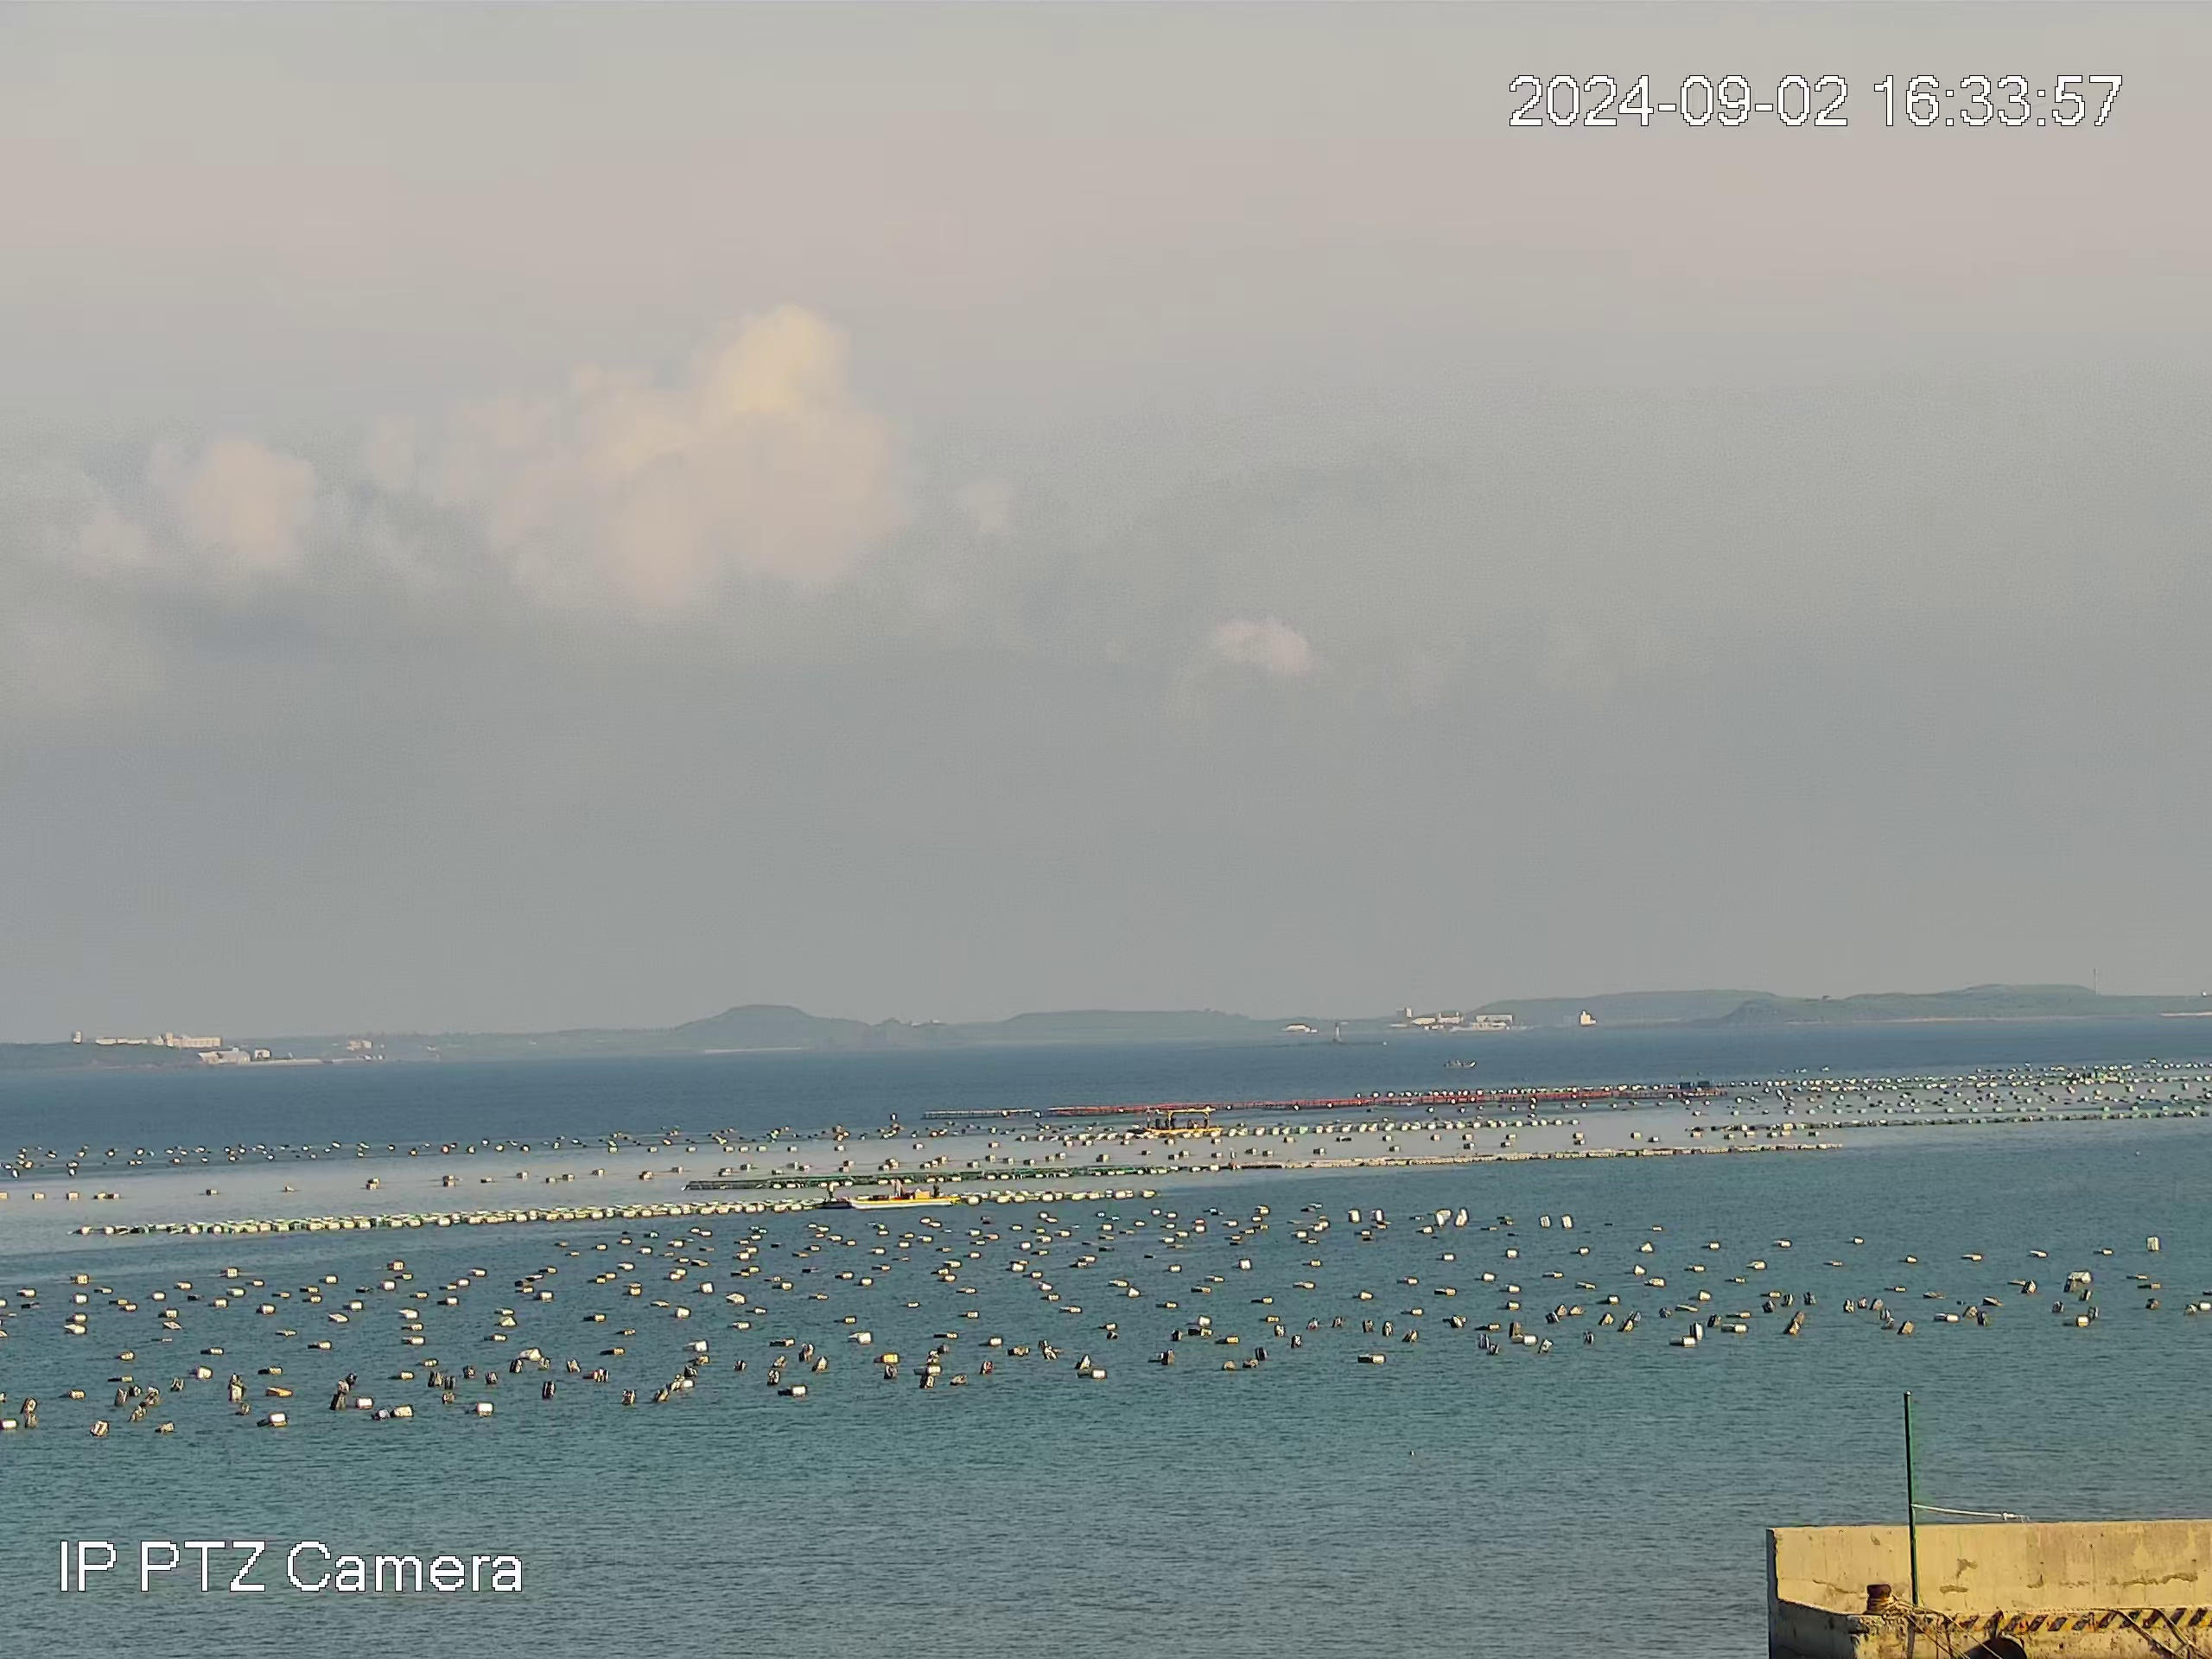boat: (840, 1176, 961, 1211), (1143, 1105, 1223, 1133)
